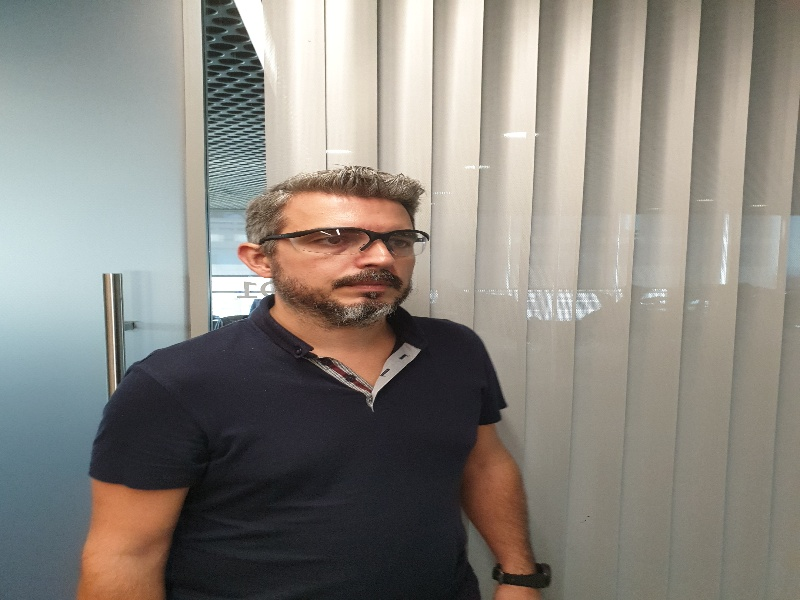Gozluk: (266, 226, 428, 258)
